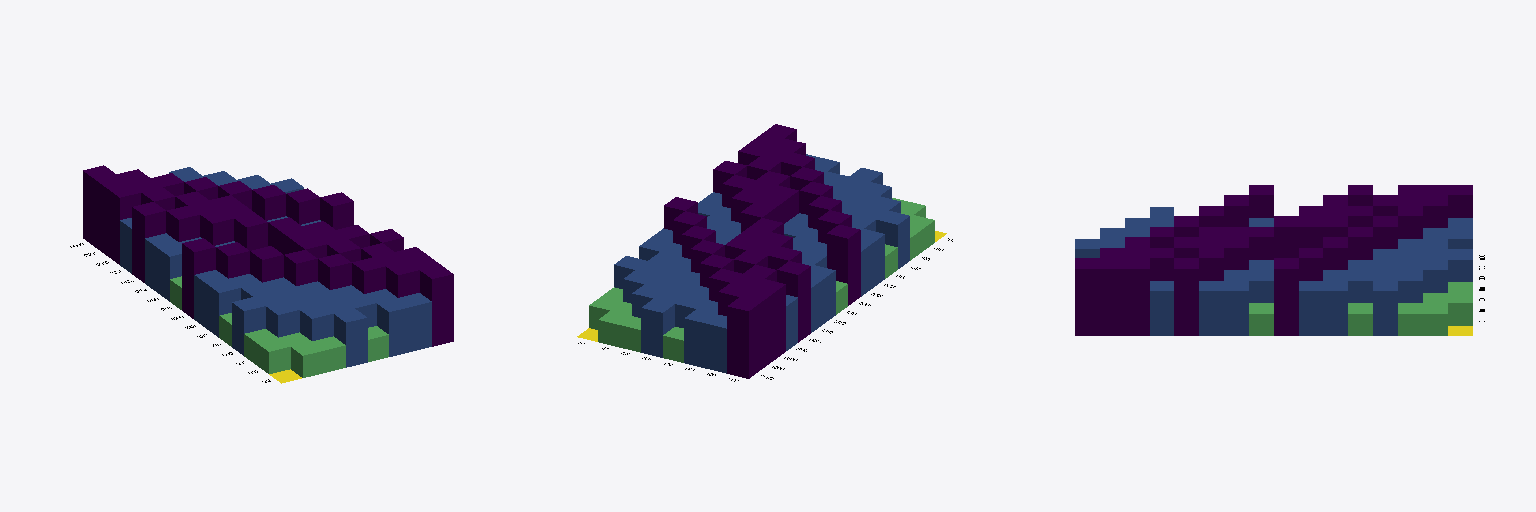
The picture shows the model from 3 angles: view 1: azimuth 30°, elevation 25°; view 2: azimuth 150°, elevation 25°; view 3: azimuth 270°, elevation 25°; orthographic projection.
Visible parts, largest first — view 1: Object(8,16)[length_3], Object(1,5)[length_3], Object(1,9)[length_3], Object(6,16)[length_2], Object(4,16)[length_2], Object(1,3)[length_3], Object(1,13)[length_2], Object(7,16)[length_2], Object(1,11)[length_2], Object(1,7)[length_2], Object(1,1)[length_3], Object(1,2)[length_3] (+26 smaller); view 2: Object(1,1)[length_3], Object(1,9)[length_3], Object(5,1)[length_2], Object(1,5)[length_3], Object(3,1)[length_2], Object(1,13)[length_2], Object(1,2)[length_3], Object(2,1)[length_2], Object(1,3)[length_3], Object(1,7)[length_2], Object(7,1)[length_1], Object(1,11)[length_2] (+28 smaller); view 3: Object(8,8)[length_3], Object(8,12)[length_3], Object(8,14)[length_3], Object(8,15)[length_3], Object(8,16)[length_3], Object(8,4)[length_2], Object(8,6)[length_2], Object(8,10)[length_2], Object(8,11)[length_2], Object(8,7)[length_2], Object(8,13)[length_2], Object(4,8)[length_3] (+28 smaller).
Part boxes in pixels (x1,y1,x2,y2): Object(8,16)[length_3]: (420, 265, 453, 346); Object(1,5)[length_3]: (132, 202, 165, 282); Object(1,9)[length_3]: (182, 238, 215, 318); Object(6,16)[length_2]: (377, 298, 410, 356); Object(4,16)[length_2]: (334, 309, 367, 367); Object(1,3)[length_3]: (107, 184, 140, 264); Object(1,13)[length_2]: (232, 297, 265, 355); Object(7,16)[length_2]: (399, 293, 431, 351); Object(1,11)[length_2]: (207, 279, 240, 337); Object(1,7)[length_2]: (157, 242, 181, 301); Object(1,1)[length_3]: (83, 165, 115, 246); Object(1,2)[length_3]: (95, 174, 128, 255); Object(1,1)[length_3]: (727, 297, 760, 378); Object(1,9)[length_3]: (827, 225, 860, 305); Object(5,1)[length_2]: (641, 299, 674, 357); Object(1,5)[length_3]: (777, 261, 810, 342); Object(3,1)[length_2]: (684, 309, 717, 368); Object(1,13)[length_2]: (876, 211, 909, 268); Object(1,2)[length_3]: (741, 288, 773, 369); Object(2,1)[length_2]: (706, 315, 726, 373); Object(1,3)[length_3]: (753, 279, 785, 359); Object(1,7)[length_2]: (811, 265, 835, 323); Object(7,1)[length_1]: (598, 311, 630, 347); Object(1,11)[length_2]: (861, 229, 884, 287); Object(8,8)[length_3]: (1274, 258, 1298, 335); Object(8,12)[length_3]: (1174, 258, 1198, 335); Object(8,14)[length_3]: (1125, 258, 1149, 335); Object(8,15)[length_3]: (1100, 258, 1124, 335); Object(8,16)[length_3]: (1075, 258, 1099, 335); Object(8,4)[length_2]: (1373, 281, 1397, 335); Object(8,6)[length_2]: (1323, 281, 1347, 335); Object(8,10)[length_2]: (1224, 281, 1248, 335); Object(8,11)[length_2]: (1199, 281, 1223, 335); Object(8,7)[length_2]: (1299, 281, 1322, 335); Object(8,13)[length_2]: (1150, 281, 1173, 335); Object(4,8)[length_3]: (1274, 216, 1298, 257).
Bounding box in the file's own units: 8.84 × 3 × 16.5.